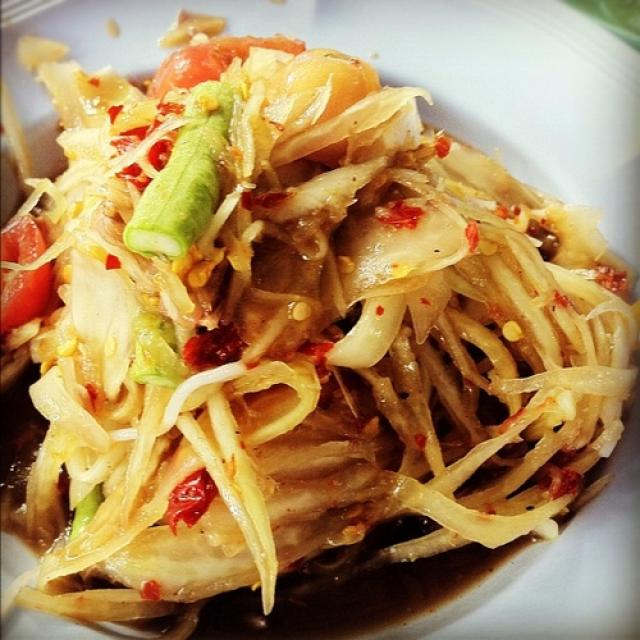蔬菜料理: (16, 23, 620, 618)
